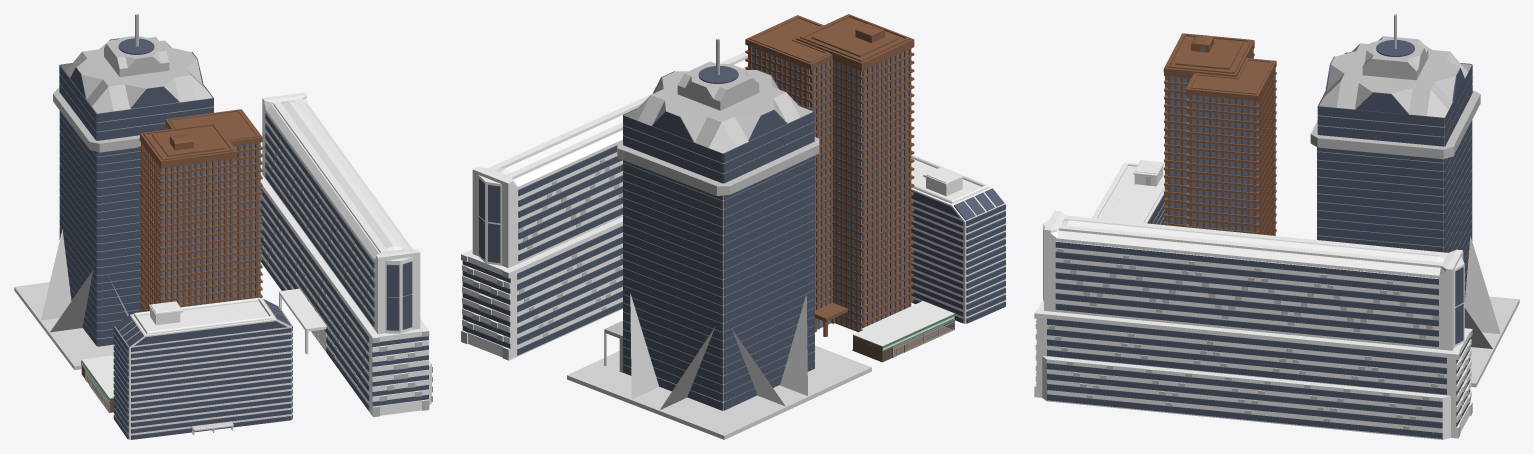
The model's file is build2.glb.
3 renders of one model, left to right at view 1: azimuth 30°, elevation 25°; view 2: azimuth 150°, elevation 25°; view 3: azimuth 270°, elevation 25°, orthographic. The views are drawn at different scales.
Parts seen in each view (by area): view 1: 立方体.016, 円柱, 円柱.001, 立方体.010, 立方体.001, 立方体; view 2: 円柱, 円柱.001, 立方体.016, 立方体.010, 立方体.001, 立方体; view 3: 立方体.016, 円柱, 円柱.001, 立方体.010, 立方体.001.
Boxes of the visible parts, x1,y1,x2,y2 form: 立方体.016: [260, 92, 432, 417]; 円柱: [41, 14, 213, 346]; 円柱.001: [139, 109, 262, 311]; 立方体.010: [113, 297, 292, 439]; 立方体.001: [14, 282, 114, 370]; 立方体: [81, 355, 114, 412]; 円柱: [570, 38, 819, 410]; 円柱.001: [745, 14, 914, 336]; 立方体.016: [461, 52, 747, 360]; 立方体.010: [911, 154, 1005, 323]; 立方体.001: [567, 345, 871, 439]; 立方体: [852, 301, 954, 362]; 立方体.016: [1034, 210, 1472, 439]; 円柱: [1310, 14, 1500, 383]; 円柱.001: [1163, 33, 1276, 235]; 立方体.010: [1092, 160, 1164, 224]; 立方体.001: [1470, 296, 1519, 387].
Bounding box in the file's own units: 13.48 × 11.46 × 15.68.
